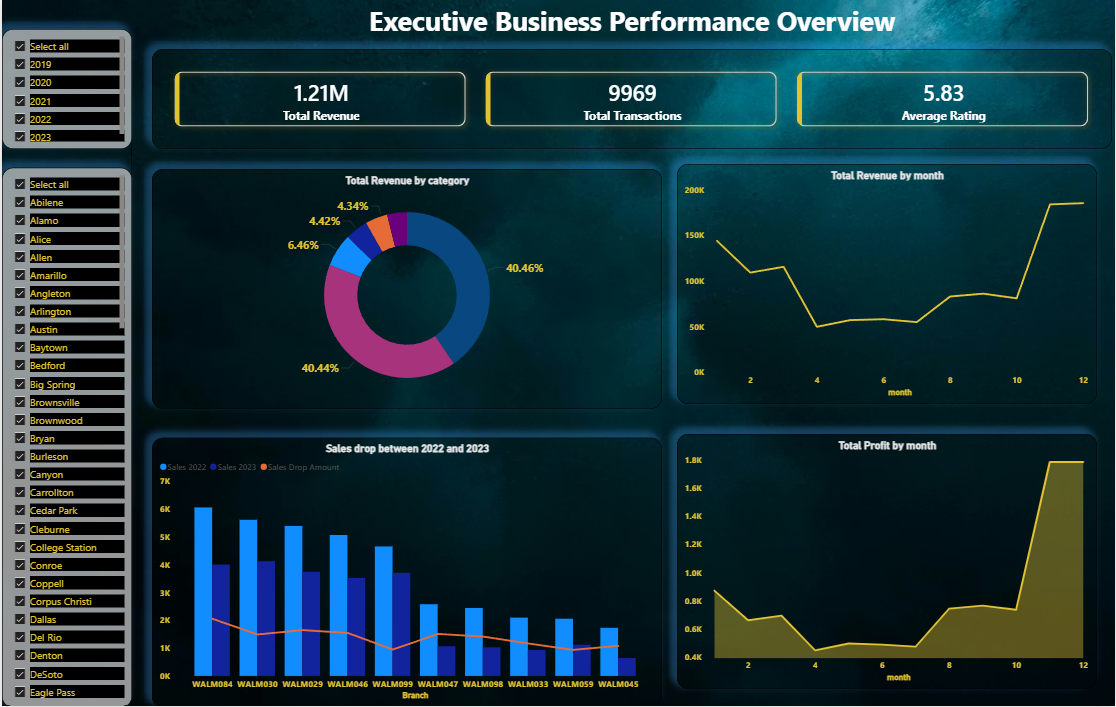

The dashboard page shown, as its layout file describes it:
{"tool":"powerbi","page":{"name":"Executive Overview","canvas":[1780,1133],"ordinal":0},"visuals":[{"type":"textbox","box":[240,0,1536,80],"z":0},{"type":"cardVisual","fields":{"Data":["walmart_sales walmartdata.Total Revenue","walmart_sales walmartdata.Total Transactions","walmart_sales walmartdata.Average Rating"]},"box":[240,80,1536,160],"z":1000},{"type":"shape","box":[0,77,208,1056],"z":2000},{"type":"lineChart","fields":{"Category":["walmart_sales walmartdata.month"],"Y":["walmart_sales walmartdata.Total Revenue"]},"box":[1080,264,672,384],"z":3000},{"type":"stackedAreaChart","title":"Total  Profit by month","fields":{"Category":["walmart_sales walmartdata.month"],"Y":["CountNonNull(walmart_sales walmartdata.Profit)"]},"box":[1080,696,672,408],"z":4000},{"type":"donutChart","fields":{"Category":["walmart_sales walmartdata.category"],"Y":["walmart_sales walmartdata.Total Revenue"]},"box":[240,272,816,384],"z":5000},{"type":"slicer","fields":{"Values":["walmart_sales walmartdata.Year"]},"box":[0,48,208,192],"z":6000},{"type":"slicer","fields":{"Values":["walmart_sales walmartdata.City"]},"box":[0,269,208,864],"z":7000},{"type":"lineClusteredColumnComboChart","title":"Sales drop between 2022 and 2023","fields":{"Category":["walmart_sales walmartdata.Branch"],"Y":["Calendar.Sales 2022","Calendar.Sales 2023"],"Y2":["Calendar.Sales Drop Amount"]},"box":[240,701,816,432],"z":8000}]}

Visuals, with their boxes in screenshot pixels (x1, y1, x2, y2), scaled from the page's 1780x1133 canvas onto the 1116x707 screenshot:
textbox: (150,0,1113,50)
cardVisual - walmart_sales walmartdata.Total Revenue x walmart_sales walmartdata.Total Transactions: (150,50,1113,150)
shape: (0,48,130,706)
lineChart - walmart_sales walmartdata.month x walmart_sales walmartdata.Total Revenue: (677,165,1098,404)
"Total  Profit by month" stackedAreaChart: (677,434,1098,689)
donutChart - walmart_sales walmartdata.category x walmart_sales walmartdata.Total Revenue: (150,170,662,409)
slicer - walmart_sales walmartdata.Year: (0,30,130,150)
slicer - walmart_sales walmartdata.City: (0,168,130,706)
"Sales drop between 2022 and 2023" lineClusteredColumnComboChart: (150,437,662,706)
